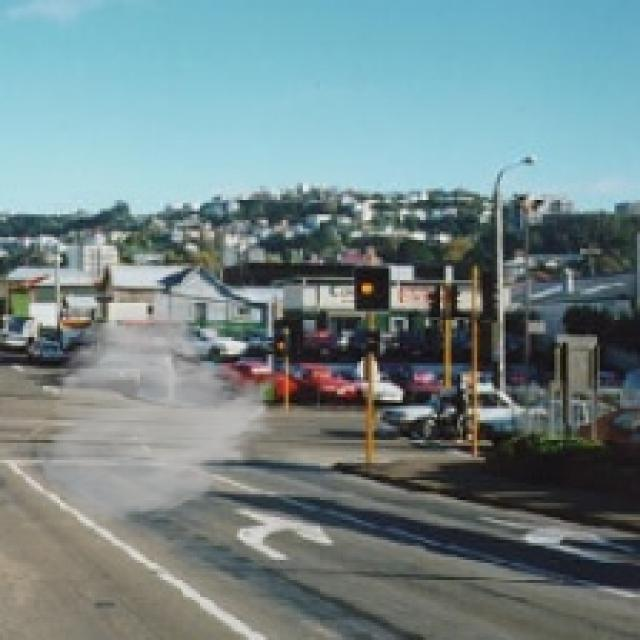Smoke: (34, 303, 286, 523)
